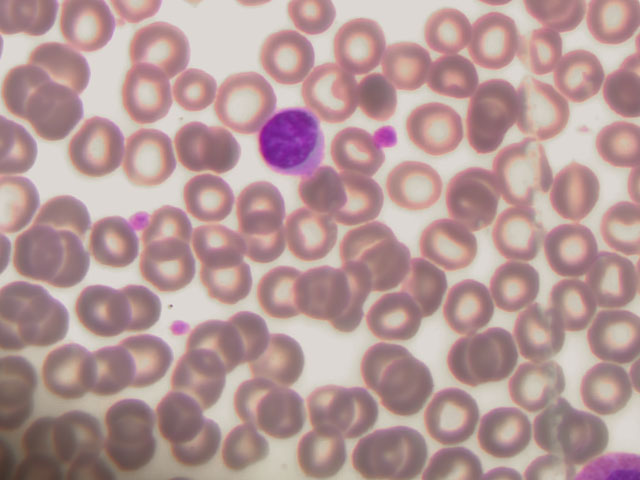Platelets: (369, 120, 400, 147), (124, 203, 149, 230), (167, 316, 192, 336)
RBC: (66, 116, 127, 177), (120, 127, 181, 188), (36, 184, 97, 245), (6, 219, 67, 280), (39, 231, 100, 292), (11, 292, 72, 353), (65, 282, 126, 343), (115, 276, 176, 337), (36, 340, 97, 401), (75, 335, 136, 396), (109, 331, 170, 392), (366, 289, 420, 342), (324, 267, 378, 320), (293, 264, 347, 317), (254, 265, 308, 318), (203, 259, 257, 312), (189, 220, 243, 273), (137, 241, 191, 294), (149, 201, 203, 254), (84, 215, 138, 268), (183, 173, 237, 226), (239, 175, 293, 228), (235, 217, 289, 270), (285, 206, 339, 259), (166, 119, 220, 172), (199, 127, 253, 180), (220, 72, 274, 125), (169, 68, 223, 121), (119, 69, 173, 122), (131, 20, 185, 73), (32, 83, 86, 136), (31, 39, 85, 92), (401, 258, 455, 311), (361, 240, 415, 293), (339, 214, 393, 267), (334, 166, 388, 219), (295, 162, 349, 215), (339, 129, 393, 182), (393, 158, 447, 211), (421, 218, 475, 271), (446, 178, 500, 231), (411, 107, 465, 160), (355, 76, 409, 129), (309, 68, 363, 121), (263, 30, 317, 83), (332, 16, 386, 69), (378, 40, 432, 93), (425, 49, 479, 102), (417, 9, 471, 62), (467, 16, 521, 69), (462, 84, 516, 137), (510, 85, 564, 138), (557, 50, 611, 103), (520, 23, 574, 76), (553, 167, 607, 220), (494, 144, 548, 197), (494, 206, 548, 259), (490, 260, 544, 313), (446, 283, 500, 336), (447, 332, 501, 385), (511, 308, 565, 361), (505, 361, 559, 414), (478, 404, 532, 457), (576, 364, 630, 417), (586, 305, 640, 358), (552, 280, 606, 333), (586, 251, 640, 304), (547, 224, 601, 277), (586, 119, 640, 172), (549, 405, 603, 458), (1, 64, 54, 117), (157, 386, 207, 441), (106, 393, 156, 448), (106, 422, 156, 477), (173, 415, 223, 470), (215, 420, 265, 475), (232, 375, 282, 430), (264, 388, 314, 443), (255, 335, 305, 390), (225, 308, 270, 359), (190, 321, 235, 372), (178, 349, 223, 400), (57, 409, 102, 460), (22, 413, 67, 464), (307, 385, 352, 436), (330, 385, 375, 436), (297, 429, 342, 480), (348, 426, 393, 477), (390, 420, 435, 471), (430, 388, 475, 439), (381, 364, 426, 415), (362, 343, 407, 394)
WBC: (255, 108, 326, 179)
